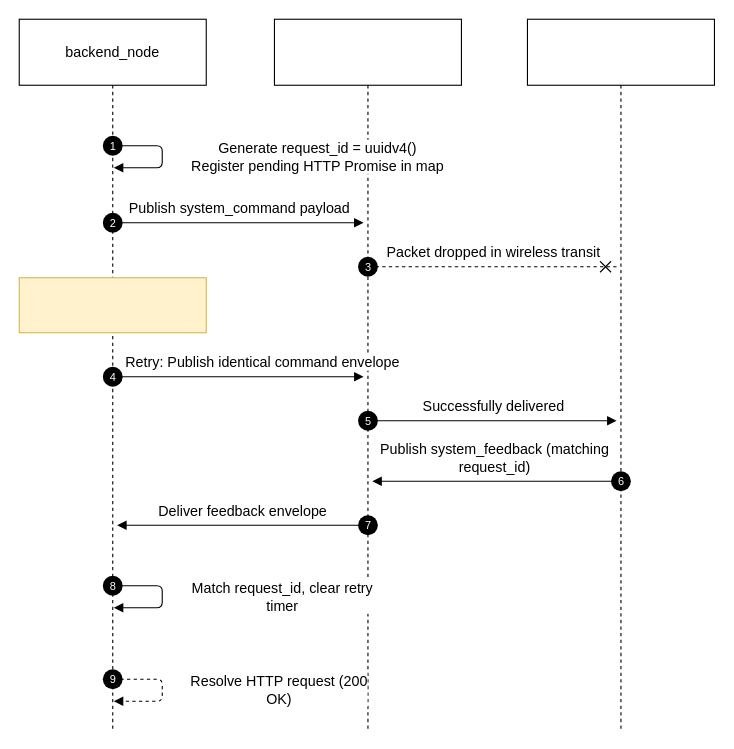
The diagram is 734 pixels wide and 749 high, and some of its shapes have lost their labels. Each missing label, with the box of its shape:
1500 ms elapsed without feedback: (18, 277, 206, 333)
HiveMQ Broker: (273, 18, 461, 730)
Robot (system_command.py): (526, 18, 714, 730)
